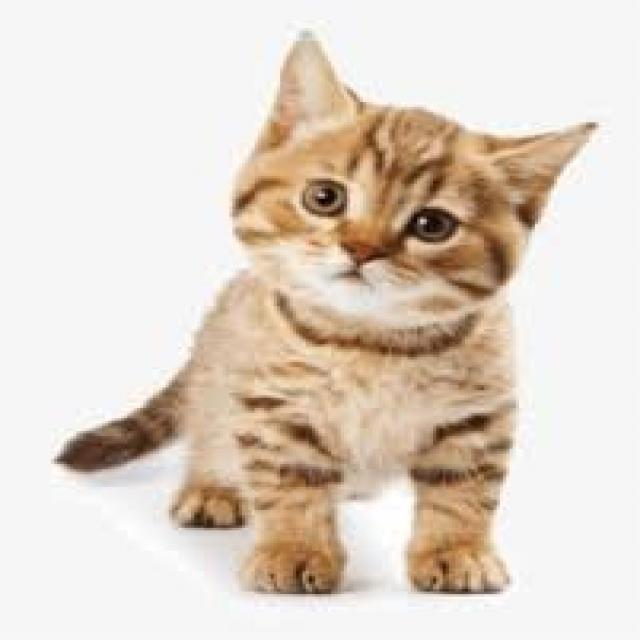Cat: (52, 25, 608, 598)
